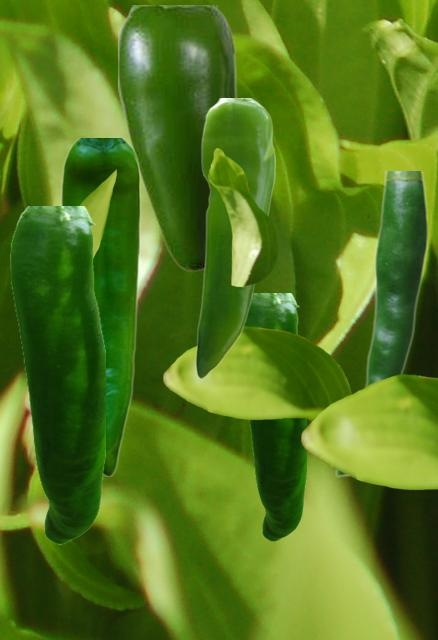green_chili: (10, 206, 104, 543), (118, 5, 237, 271), (334, 171, 426, 476), (60, 138, 140, 475), (195, 98, 274, 377), (246, 293, 305, 540)
